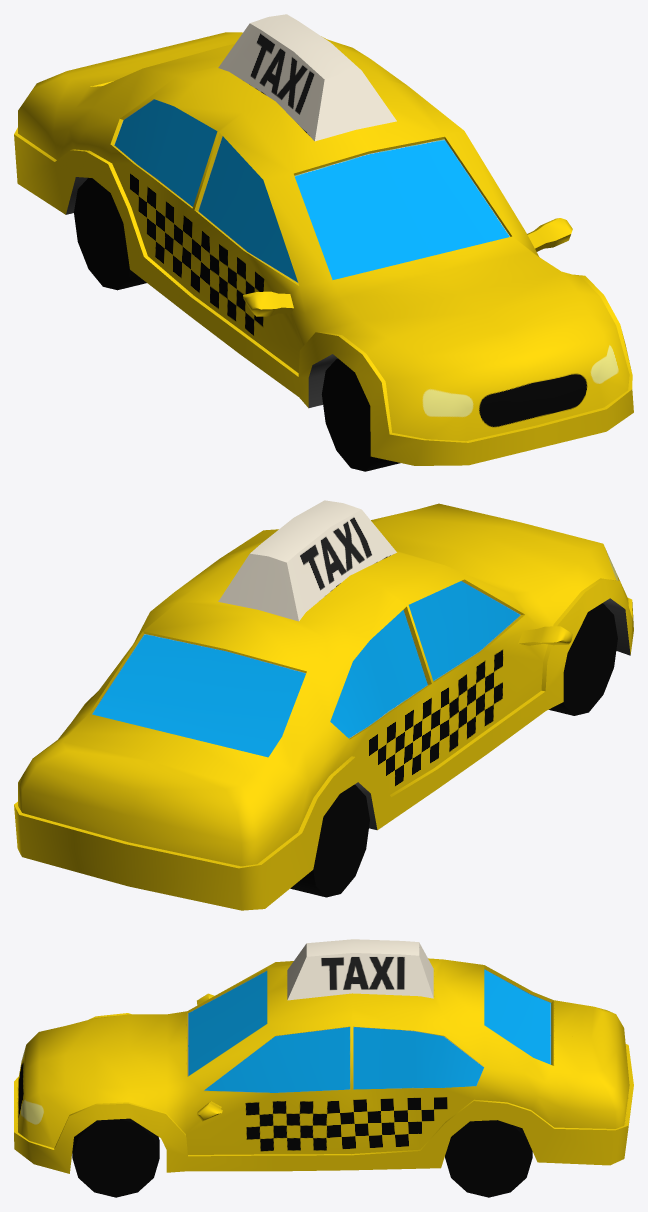
The model's file is Taxi.fbx.
3 renders of one model, top to bottom at view 1: azimuth 30°, elevation 25°; view 2: azimuth 150°, elevation 25°; view 3: azimuth 270°, elevation 25°, orthographic. The views are drawn at different scales.
Parts seen in each view (by area): view 1: Taxi; view 2: Taxi; view 3: Taxi.
Boxes of the visible parts, box(x1,y1,x2,y2) form: Taxi: box(14, 14, 633, 471); Taxi: box(14, 500, 633, 910); Taxi: box(14, 939, 633, 1197).
Size of the model in its own units: 396 by 329 by 882.
1 material, 1 textured.
